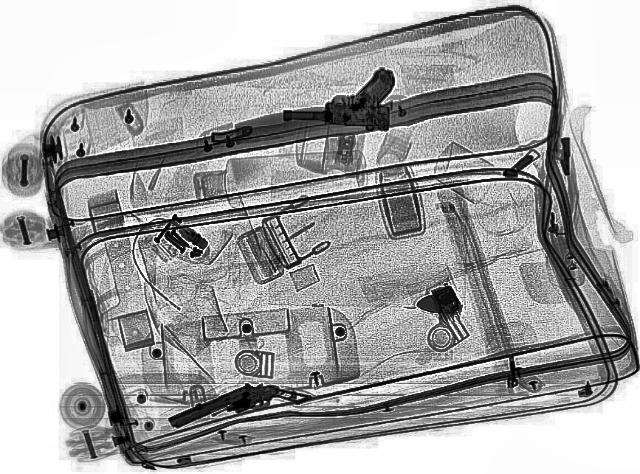Gun: (165, 367, 313, 449), (278, 58, 399, 132)
